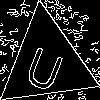U: (21, 37, 70, 94)
